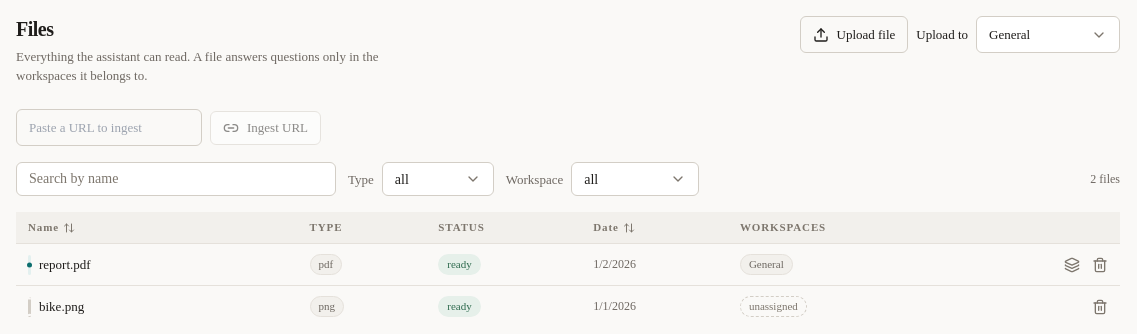
Scenario: FilesManager › finds a file by name
Expected: the text "report.pdf" is shown, [39,255,91,274]
Type "report" into the field named "Search files". click: point(176, 179)
box: [16,162,336,196]
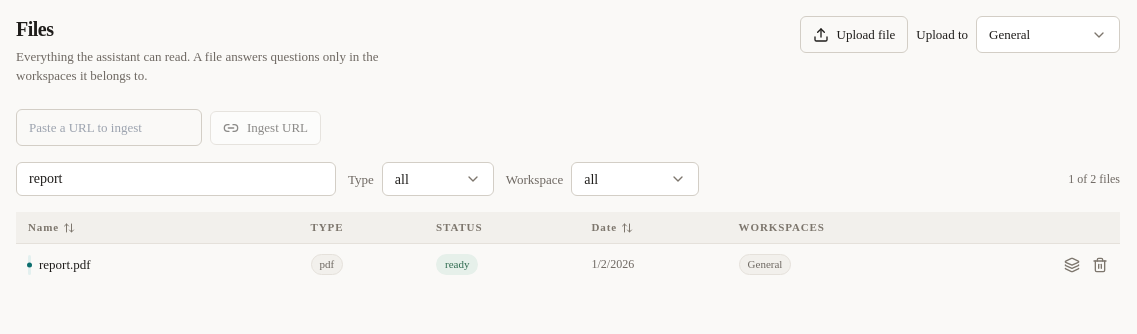
Expected: the text "report.pdf" is shown, [39,255,91,274]
Expected: the button "bike.png" is gone
